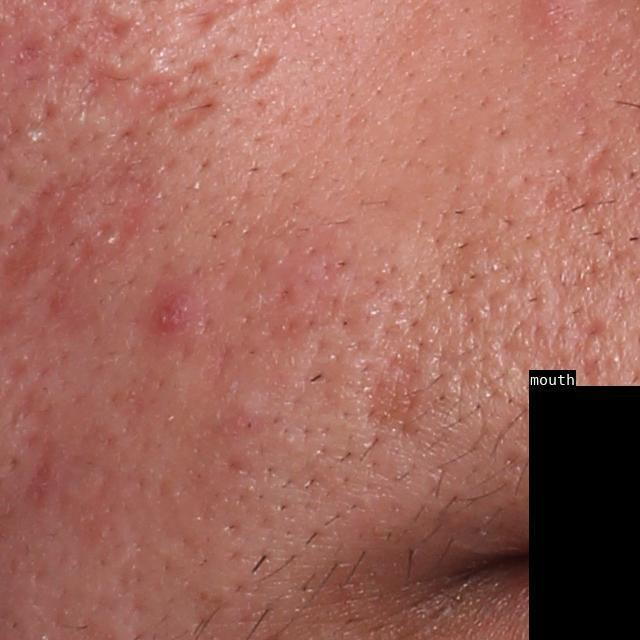atrophic_scar: (131, 60, 221, 135), (359, 341, 422, 431), (74, 60, 155, 115), (231, 47, 281, 91), (84, 7, 124, 55), (581, 144, 611, 175)
papule: (139, 270, 218, 343)
